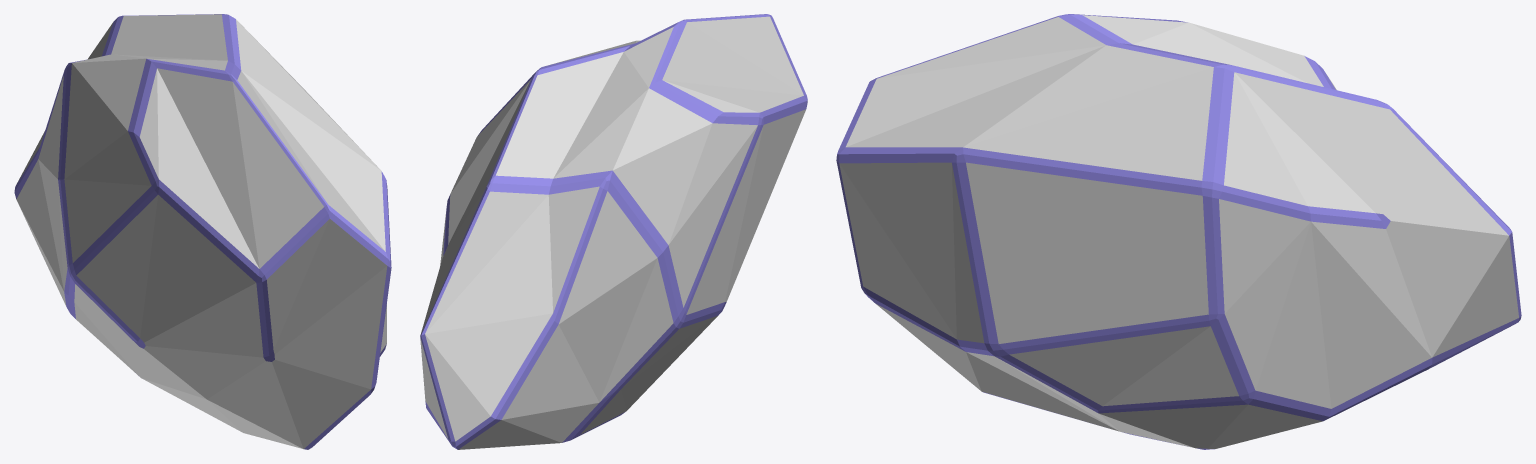
The model's file is stone_002.fbx.
The picture shows the model from 3 angles, left to right: view 1: azimuth 30°, elevation 25°; view 2: azimuth 150°, elevation 25°; view 3: azimuth 270°, elevation 25°; orthographic projection. The views are drawn at different scales.
Visible parts, largest first — view 1: stone; view 2: stone; view 3: stone.
Boxes of the visible parts, <box> form: stone: <box>14,14,391,449</box>; stone: <box>420,14,807,449</box>; stone: <box>836,14,1521,449</box>.
Bounding box in the file's own units: 396 × 636 × 993.
